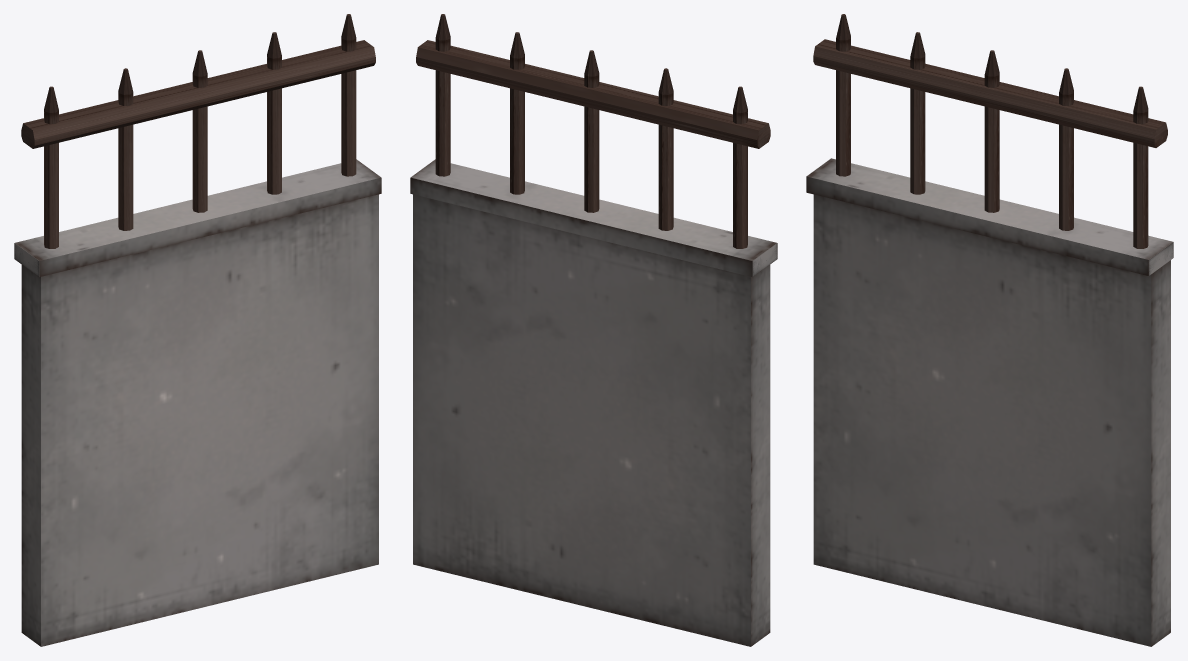
The model's file is Fall_City_3.fbx.
The picture shows the model from 3 angles, left to right: view 1: azimuth 30°, elevation 25°; view 2: azimuth 150°, elevation 25°; view 3: azimuth 330°, elevation 25°; orthographic projection.
Visible parts, largest first — view 1: Cube.100; view 2: Cube.100; view 3: Cube.100.
Part boxes in pixels (x1,y1,x2,y2): Cube.100: [14, 14, 381, 646]; Cube.100: [410, 14, 777, 646]; Cube.100: [806, 14, 1173, 646].
Bounding box in the file's own units: 1.01 × 1.55 × 0.127.
